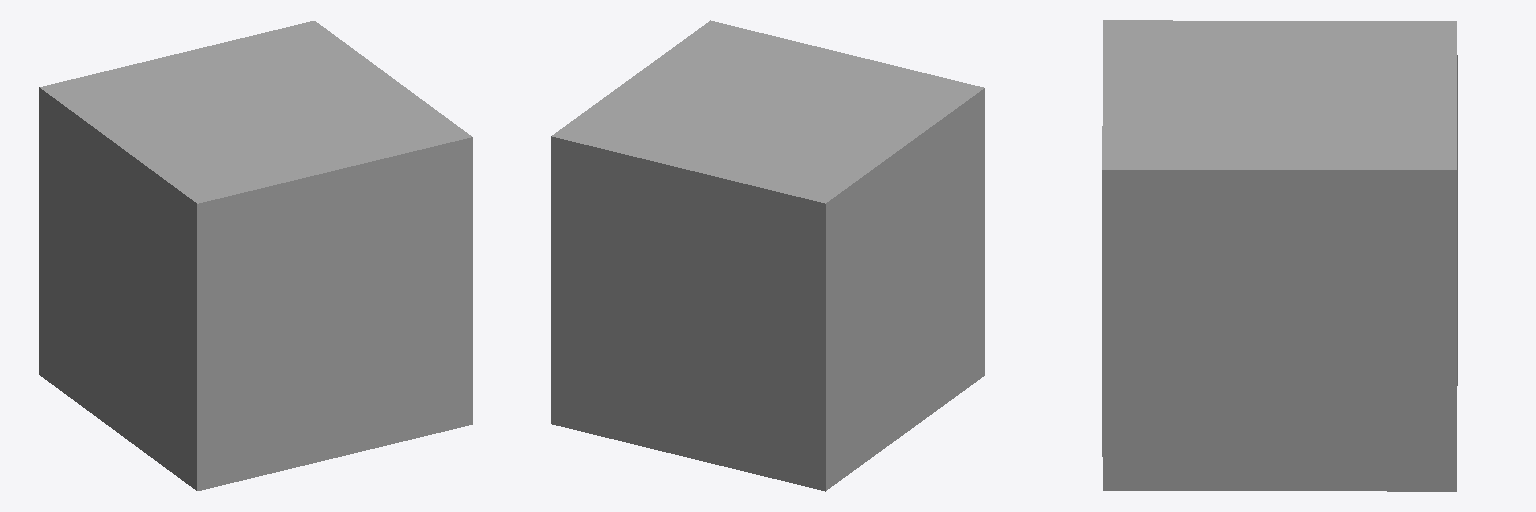
The robot description file, URDF, robot "mycobot_pro_with_gripper":
<?xml version="1.0" ?>
<!-- =================================================================================== -->
<!-- |    This document was autogenerated by xacro from hma_cobot_with_eef.xacro       | -->
<!-- |    EDITING THIS FILE BY HAND IS NOT RECOMMENDED                                 | -->
<!-- =================================================================================== -->
<robot name="mycobot_pro_with_gripper">
  <link name="base">
    <visual>
      <geometry>
        <!--- 0.0 0 -0.04  1.5708 3.14159-->
        <mesh filename="package://mycobot_description/urdf/mycobot_pro_600/base.dae"/>
      </geometry>
      <origin rpy=" 0 0 0" xyz="0 0 0 "/>
    </visual>
    <collision>
      <geometry>
        <!--- 0.0 0 -0.04  1.5708 3.14159-->
        <mesh filename="package://mycobot_description/urdf/mycobot_pro_600/base.dae"/>
      </geometry>
      <origin rpy=" 0 0 0" xyz="0 0 0 "/>
    </collision>
  </link>
  <link name="link1">
    <visual>
      <geometry>
        <mesh filename="package://mycobot_description/urdf/mycobot_pro_600/link1.dae"/>
      </geometry>
      <origin rpy="0 0 3.1415926" xyz="0 0 0 "/>
    </visual>
    <collision>
      <geometry>
        <mesh filename="package://mycobot_description/urdf/mycobot_pro_600/link1.dae"/>
      </geometry>
      <origin rpy=" 0 0 3.1415926" xyz="0 0 0 "/>
    </collision>
  </link>
  <link name="link2">
    <visual>
      <geometry>
        <mesh filename="package://mycobot_description/urdf/mycobot_pro_600/link2.dae"/>
      </geometry>
      <origin rpy=" 3.1415926 0 3.1415926" xyz="0 0 -0.080 "/>
    </visual>
    <collision>
      <geometry>
        <mesh filename="package://mycobot_description/urdf/mycobot_pro_600/link2.dae"/>
      </geometry>
      <origin rpy=" 3.1415926 0 3.1415926" xyz="0 0 -0.080 "/>
    </collision>
  </link>
  <link name="link3">
    <visual>
      <geometry>
        <!--- 0.0 0 -0.04 -->
        <mesh filename="package://mycobot_description/urdf/mycobot_pro_600/link3.dae"/>
      </geometry>
      <origin rpy=" 3.1415926 0 3.1415926" xyz="0 0 -0.0855 "/>
    </visual>
    <collision>
      <geometry>
        <!--- 0.0 0 -0.04 -->
        <mesh filename="package://mycobot_description/urdf/mycobot_pro_600/link3.dae"/>
      </geometry>
      <origin rpy="3.1415926 0 3.1415926" xyz="0 0 -0.0855 "/>
    </collision>
  </link>
  <link name="link4">
    <visual>
      <geometry>
        <!--- 0.0 0 -0.04 -->
        <mesh filename="package://mycobot_description/urdf/mycobot_pro_600/link4.dae"/>
      </geometry>
      <origin rpy=" 0 3.1415926 0" xyz="0 0 0 "/>
    </visual>
    <collision>
      <geometry>
        <!--- 0.0 0 -0.04 -->
        <mesh filename="package://mycobot_description/urdf/mycobot_pro_600/link4.dae"/>
      </geometry>
      <origin rpy=" 0 3.1415926 0" xyz="0 0 0 "/>
    </collision>
  </link>
  <link name="link5">
    <visual>
      <geometry>
        <!--- 0.0 0 -0.04 -->
        <mesh filename="package://mycobot_description/urdf/mycobot_pro_600/link5.dae"/>
      </geometry>
      <origin rpy=" 0  0 1.5707" xyz="0 0  0 "/>
    </visual>
    <collision>
      <geometry>
        <!--- 0.0 0 -0.04 -->
        <mesh filename="package://mycobot_description/urdf/mycobot_pro_600/link5.dae"/>
      </geometry>
      <origin rpy=" 0  0 1.5707" xyz="0 0  0 "/>
    </collision>
  </link>
  <link name="link6">
    <visual>
      <geometry>
        <!--- 0.0 0 -0.04 -->
        <mesh filename="package://mycobot_description/urdf/mycobot_pro_600/link6.dae"/>
      </geometry>
      <material name="grey">
        <color rgba="0.5 0.5 0.5 1"/>
      </material>
      <origin rpy=" 0 -1.5707  0" xyz="0.03 0 0"/>
    </visual>
    <collision>
      <geometry>
        <!--- 0.0 0 -0.04 -->
        <mesh filename="package://mycobot_description/urdf/mycobot_pro_600/link6.dae"/>
      </geometry>
      <material name="grey">
        <color rgba="0.5 0.5 0.5 1"/>
      </material>
      <origin rpy=" 0 -1.5707  0" xyz="0.03 0 0"/>
    </collision>
  </link>
  <joint name="joint1" type="revolute">
    <axis xyz="0 0 1"/>
    <limit effort="1000.0" lower="-3.14" upper="3.14" velocity="0"/>
    <!--limit effort = "1000.0" lower = "-2.26" upper = "1.22" velocity = "0"/-->
    <parent link="base"/>
    <child link="link1"/>
    <origin rpy="0 0 0" xyz="0 0 0.19934"/>
  </joint>
  <joint name="joint2" type="revolute">
    <axis xyz="0 0 -1"/>
    <limit effort="1000.0" lower="-3.14" upper="0.61" velocity="0"/>
    <!--limit effort = "1000.0" lower = "-1.91" upper = "0.61" velocity = "0"/-->
    <!-- <limit effort = "1000.0" lower = "-3.14" upper = "3.14" velocity = "0"/> -->
    <parent link="link1"/>
    <child link="link2"/>
    <!-- <origin xyz= "0 0  0" rpy = "1.5708 -1.5708 0"/>   -->
    <origin rpy="1.5708 0 0" xyz="0 0  0"/>
  </joint>
  <joint name="joint3" type="revolute">
    <axis xyz=" 0 0 -1"/>
    <limit effort="1000.0" lower="-2.61" upper="2.618" velocity="0"/>
    <parent link="link2"/>
    <child link="link3"/>
    <origin rpy="0 0 0" xyz="0.25 0 0   "/>
  </joint>
  <joint name="joint4" type="revolute">
    <axis xyz=" 0 0 -1"/>
    <limit effort="1000.0" lower="-4.53" upper="1.3962" velocity="0"/>
    <!-- <limit effort = "1000.0" lower = "-2.96" upper = "2.97" velocity = "0"/> -->
    <parent link="link3"/>
    <child link="link4"/>
    <!-- <origin xyz= "0.25 0  -0.1091" rpy = "0 0 1.5708"/>   -->
    <origin rpy="0 0 0" xyz="0.25 0  -0.1091"/>
  </joint>
  <joint name="joint5" type="revolute">
    <axis xyz="0 0 1"/>
    <limit effort="1000.0" lower="-2.93" upper="2.9321" velocity="0"/>
    <parent link="link4"/>
    <child link="link5"/>
    <origin rpy="1.57080 -1.57080 0" xyz="0 -0.108 0"/>
  </joint>
  <joint name="joint6" type="revolute">
    <axis xyz="-1 0 0"/>
    <limit effort="1000.0" lower="-3.03" upper="3.0368" velocity="0"/>
    <parent link="link5"/>
    <child link="link6"/>
    <origin rpy="-1.57080 0 0 " xyz="-0.07586 0 0"/>
  </joint>
  <link name="camera_adaptor">
    <visual>
      <geometry>
        <mesh filename="package://mycobot_description/urdf/camera_attachments/adaptor.dae"/>
      </geometry>
      <origin rpy=" 0 0 0" xyz="0.00 0.00 0.00 "/>
    </visual>
    <collision>
      <geometry>
        <mesh filename="package://mycobot_description/urdf/camera_attachments/adaptor.dae"/>
      </geometry>
      <origin rpy=" 0 0 0" xyz="0.00 0.00 0.00 "/>
    </collision>
  </link>
  <joint name="camera_adaptor_link" type="fixed">
    <parent link="link6"/>
    <child link="camera_adaptor"/>
    <origin rpy="0 3.14 0" xyz="0.000 0 0"/>
  </joint>
  <link name="gripper_base">
    <visual>
      <geometry>
        <mesh filename="package://mycobot_description/urdf/pro_adaptive_gripper/gripper_base.dae"/>
      </geometry>
      <origin rpy=" 0 0 1.5708" xyz="-0.02 0.012 -0.018 "/>
    </visual>
    <collision>
      <geometry>
        <mesh filename="package://mycobot_description/urdf/pro_adaptive_gripper/gripper_base.dae"/>
      </geometry>
      <origin rpy=" 0 0 1.5708" xyz="-0.02 0.012 -0.018 "/>
    </collision>
  </link>
  <link name="gripper_left1">
    <visual>
      <geometry>
        <mesh filename="package://mycobot_description/urdf/pro_adaptive_gripper/gripper_left1.dae"/>
      </geometry>
      <origin rpy=" 0 0 1.5708" xyz="0.036 -0.052 0.0 "/>
    </visual>
    <collision>
      <geometry>
        <mesh filename="package://mycobot_description/urdf/pro_adaptive_gripper/gripper_left1.dae"/>
      </geometry>
      <origin rpy=" 0 0 1.5708" xyz="0.036 -0.052 0.0 "/>
    </collision>
  </link>
  <link name="gripper_left2">
    <visual>
      <geometry>
        <mesh filename="package://mycobot_description/urdf/pro_adaptive_gripper/gripper_left2.dae"/>
      </geometry>
      <origin rpy=" 0 0 1.5708" xyz="0.03 0.024 -0.018 "/>
    </visual>
    <collision>
      <geometry>
        <mesh filename="package://mycobot_description/urdf/pro_adaptive_gripper/gripper_left2.dae"/>
      </geometry>
      <origin rpy=" 0 0 1.5708" xyz="0.03 0.024 -0.018 "/>
    </collision>
  </link>
  <link name="gripper_left3">
    <visual>
      <geometry>
        <mesh filename="package://mycobot_description/urdf/pro_adaptive_gripper/gripper_left3.dae"/>
      </geometry>
      <origin rpy=" 0 3.14159 -1.5708" xyz="0.034 0.0 -0.012 "/>
    </visual>
    <collision>
      <geometry>
        <mesh filename="package://mycobot_description/urdf/pro_adaptive_gripper/gripper_left3.dae"/>
      </geometry>
      <origin rpy=" 0 3.14159 -1.5708" xyz="0.034 0.0 -0.012 "/>
    </collision>
  </link>
  <link name="gripper_right1">
    <visual>
      <geometry>
        <mesh filename="package://mycobot_description/urdf/pro_adaptive_gripper/gripper_right1.dae"/>
      </geometry>
      <origin rpy=" 0 0 1.5708" xyz="-0.072 -0.05 0.0 "/>
    </visual>
    <collision>
      <geometry>
        <mesh filename="package://mycobot_description/urdf/pro_adaptive_gripper/gripper_right1.dae"/>
      </geometry>
      <origin rpy=" 0 0 1.5708" xyz="-0.072 -0.05 0.0 "/>
      <!--origin xyz = "-0.036 -0.052 0.0 " rpy = " 0 0 1.5708"/-->
    </collision>
  </link>
  <link name="gripper_right2">
    <visual>
      <geometry>
        <mesh filename="package://mycobot_description/urdf/pro_adaptive_gripper/gripper_right2.dae"/>
      </geometry>
      <origin rpy=" 0 0 1.5708" xyz="-0.066 0.023 -0.018 "/>
      <!--origin xyz = "-0.03 0.024 -0.018 " rpy = " 0 0 1.5708"/-->
    </visual>
    <collision>
      <geometry>
        <mesh filename="package://mycobot_description/urdf/pro_adaptive_gripper/gripper_right2.dae"/>
      </geometry>
      <origin rpy=" 0 0 1.5708" xyz="-0.066 0.023 -0.018 "/>
      <!--origin xyz = "-0.03 0.024 -0.018 " rpy = " 0 0 1.5708"/-->
    </collision>
  </link>
  <link name="gripper_right3">
    <visual>
      <geometry>
        <mesh filename="package://mycobot_description/urdf/pro_adaptive_gripper/gripper_right3.dae"/>
      </geometry>
      <origin rpy=" 0 3.14159 -1.5708" xyz="0 0.0 -0.012 "/>
      <!--origin xyz = "-0.034 0.0 -0.012 " rpy = " 0 3.14159 -1.5708"/-->
    </visual>
    <collision>
      <geometry>
        <mesh filename="package://mycobot_description/urdf/pro_adaptive_gripper/gripper_right3.dae"/>
      </geometry>
      <origin rpy=" 0 3.14159 -1.5708" xyz="0 0.0 -0.012 "/>
      <!--origin xyz = "-0.034 0.0 -0.012 " rpy = " 0 3.14159 -1.5708"/-->
    </collision>
  </link>
  <joint name="gripper_controller" type="revolute">
    <axis xyz="0 0 1"/>
    <limit effort="1000.0" lower="-0.7" upper="0.3" velocity="0"/>
    <parent link="gripper_base"/>
    <child link="gripper_left3"/>
    <origin rpy="0 0 0" xyz="-0.018 0.016 0"/>
  </joint>
  <!--joint name="gripper_base_to_gripper_left2" type="revolute"-->
  <joint name="gripper_left2" type="revolute">
    <axis xyz="0 0 1"/>
    <limit effort="1000.0" lower="-0.8" upper="0.5" velocity="0"/>
    <parent link="gripper_base"/>
    <child link="gripper_left2"/>
    <origin rpy="0 0 0" xyz="-0.05 -0.01 0"/>
    <mimic joint="gripper_controller" multiplier="1.0" offset="0"/>
  </joint>
  <!--joint name="gripper_left3_to_gripper_left1" type="revolute"-->
  <joint name="gripper_left1" type="revolute">
    <axis xyz="0 0 1"/>
    <limit effort="1000.0" lower="-0.5" upper="0.5" velocity="0"/>
    <parent link="gripper_left3"/>
    <child link="gripper_left1"/>
    <origin rpy="0 0 0" xyz="-0.0356 0.051 -0.018"/>
    <mimic joint="gripper_controller" multiplier="-1.0" offset="0"/>
  </joint>
  <joint name="gripper_right3" type="revolute">
    <axis xyz="0 0 1"/>
    <limit effort="1000.0" lower="-0.3" upper="0.7" velocity="0"/>
    <parent link="gripper_base"/>
    <child link="gripper_right3"/>
    <origin rpy="0 0 0" xyz="0.018 0.016 0"/>
    <mimic joint="gripper_controller" multiplier="-1.0" offset="0"/>
  </joint>
  <joint name="gripper_right2" type="revolute">
    <axis xyz="0 0 1"/>
    <limit effort="1000.0" lower="-0.5" upper="0.8" velocity="0"/>
    <parent link="gripper_base"/>
    <child link="gripper_right2"/>
    <origin rpy="0 0 0" xyz="0.046 -0.01 0"/>
    <mimic joint="gripper_controller" multiplier="-1.0" offset="0"/>
  </joint>
  <joint name="gripper_right1" type="revolute">
    <axis xyz="0 0 1"/>
    <limit effort="1000.0" lower="-0.5" upper="0.5" velocity="0"/>
    <parent link="gripper_right3"/>
    <child link="gripper_right1"/>
    <origin rpy="0 0 0" xyz="0.033 0.051 -0.018"/>
    <mimic joint="gripper_controller" multiplier="1.0" offset="0"/>
  </joint>
  <joint name="flange_to_gripper" type="fixed">
    <parent link="camera_adaptor"/>
    <child link="gripper_base"/>
    <origin rpy="-1.57 1.57 3.14" xyz="0.06 -0.007 0"/>
  </joint>
  <!--extension for eef-->
  <link name="end_effector_link">
    <visual>
      <origin rpy="0 0 0" xyz="0 0 0"/>
      <geometry>
        <box length="0.1" size="0.01 0.01 0.01"/>
      </geometry>
    </visual>
  </link>
  <joint name="end_effector_joint" type="fixed">
    <parent link="camera_adaptor"/>
    <child link="end_effector_link"/>
    <!--origin xyz="0.1 0.0 0.0" rpy="0 1.57 1.57"/> -->
    <!--origin xyz="0.1 0.0 0.0" rpy="3.14 -1.57 1.57"/-->
    <origin rpy="-1.57 0 -1.57" xyz="0.1 0.0 0.0"/>
  </joint>
</robot>

--- What the picture shows (computed from the rendered views, not written in the file) ---
The picture shows the robot from 3 angles, left to right: view 1: azimuth 30°, elevation 25°; view 2: azimuth 150°, elevation 25°; view 3: azimuth 270°, elevation 25°; orthographic projection.
Robot: mycobot_pro_with_gripper — 16 links, 15 joints (12 revolute, 3 fixed); root link base; default pose: every joint at zero.
Visible links, largest first — view 1: end_effector_link; view 2: end_effector_link; view 3: end_effector_link.
Boxes of the visible links, x1=… form: end_effector_link: x1=39, y1=21, x2=472, y2=490; end_effector_link: x1=551, y1=20, x2=984, y2=491; end_effector_link: x1=1102, y1=20, x2=1457, y2=491.
Size in the robot's own frame: 0.01 by 0.01 by 0.01 metres.
Meshes: 15 distinct files referenced, 0 mesh visuals loaded (none loaded); not drawn: 15 (reference not matched to a file when rendering).